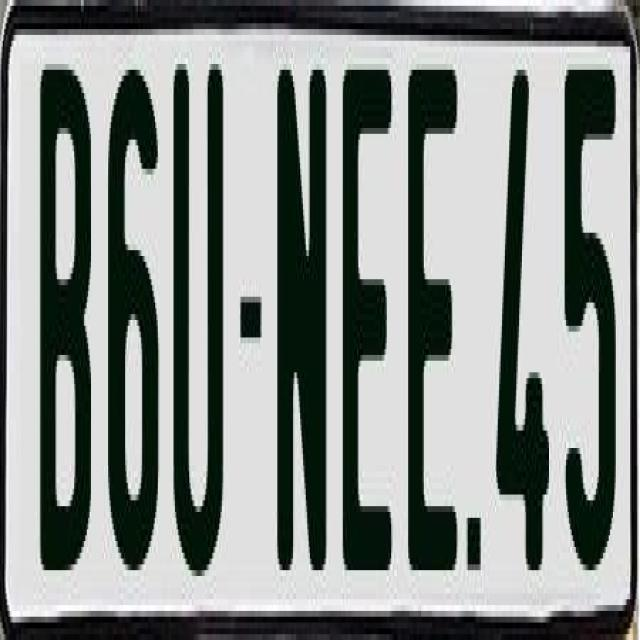4: (496, 52, 550, 582)
5: (560, 64, 614, 594)
6: (108, 58, 166, 576)
B: (40, 52, 91, 570)
E: (342, 58, 392, 564), (407, 64, 455, 582)
N: (274, 52, 324, 570)
U: (172, 46, 230, 582)
